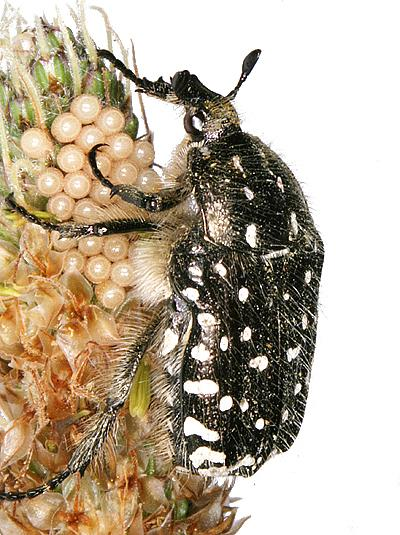Oxythyrea_funesta: (1, 19, 332, 507)
